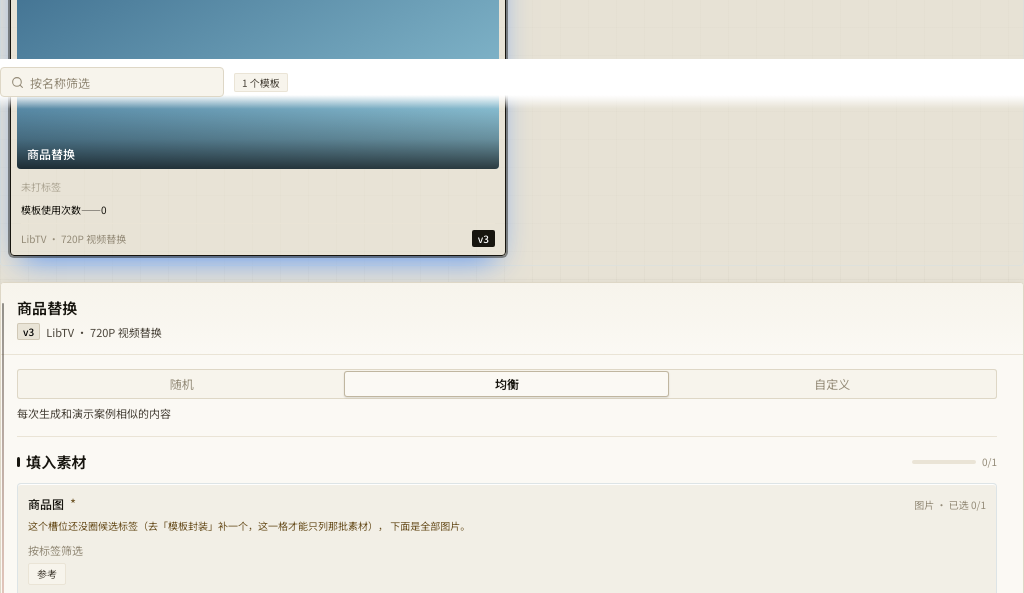
Scenario: 模板库 · 随机性三档 › 控件下面跟着档位换一句话，说明这一档会生成什么
This screenshot has width=1024, height=593.
(page scrolled)
Expected: the text "商品图" is shown, [28,495,64,513]
Expected: the text "每次生成和演示案例相似的内容" is shown, [17,405,171,421]
Click the radio button labelled "自定义".
click(832, 384)  # box [670,371,995,397]
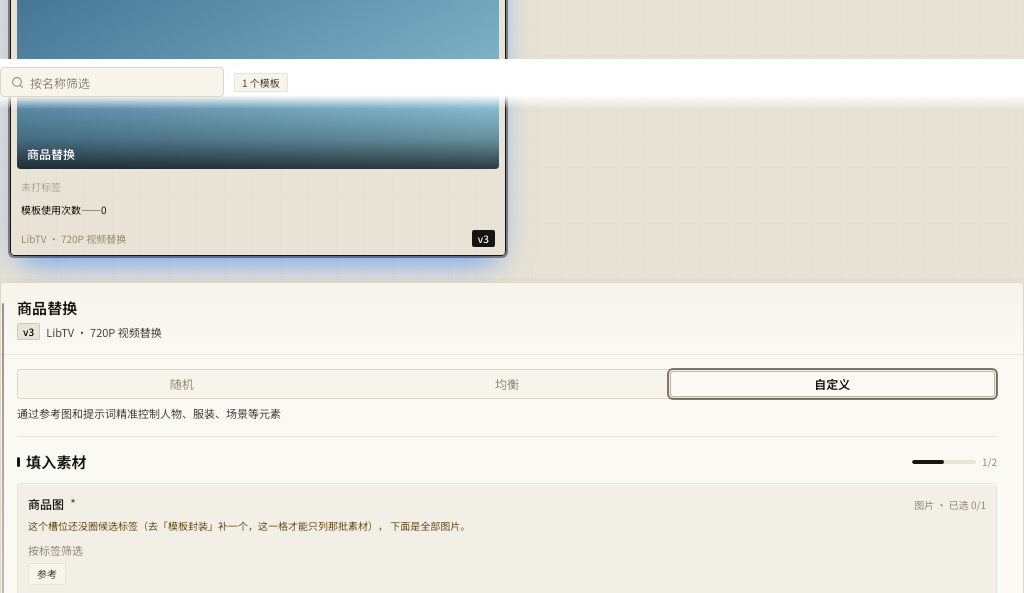
Result: the text "通过参考图和提示词精准控制人物、服装、场景等元素" is shown at [17,405,281,421]
Result: the text "每次生成和演示案例相似的内容" is gone
Click the radio button labelled "随机".
click(182, 384)  # box [19,371,344,397]
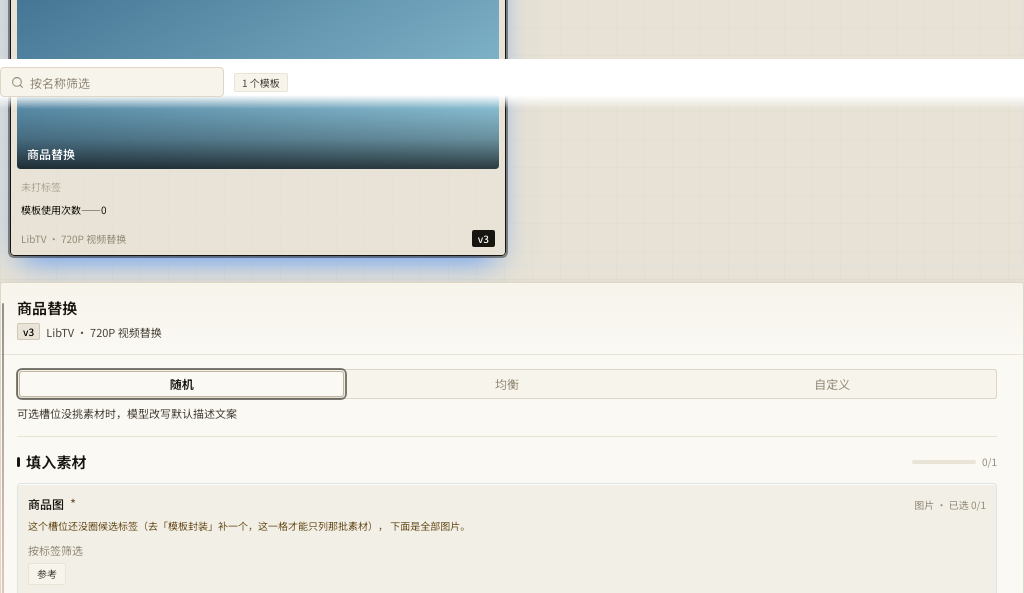
Result: the text "可选槽位没挑素材时，模型改写默认描述文案" is shown at [17,405,237,421]
